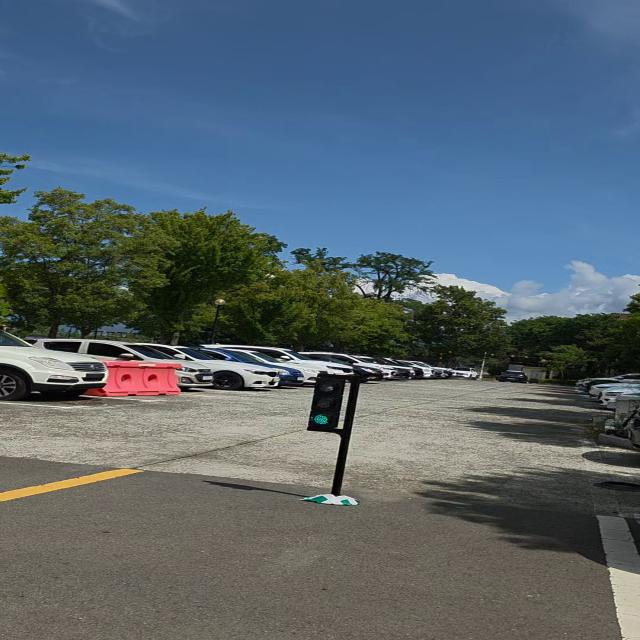green: (307, 372, 348, 432)
